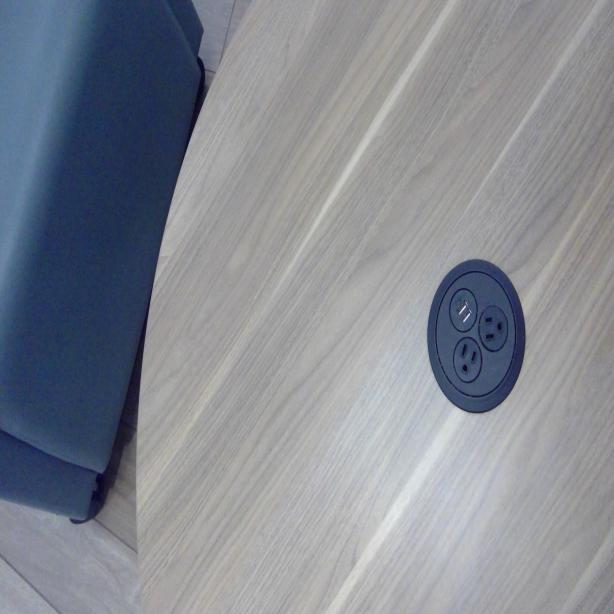typeb: (481, 307, 507, 347), (455, 340, 479, 379)
